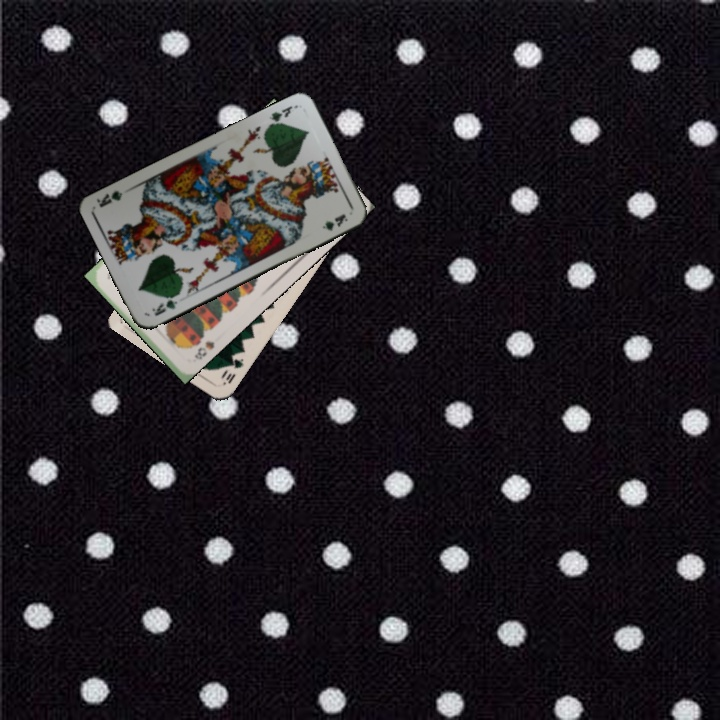G10: (219, 354, 246, 388)
GK: (148, 289, 182, 318), (264, 102, 295, 130)
S8: (190, 337, 217, 362)
